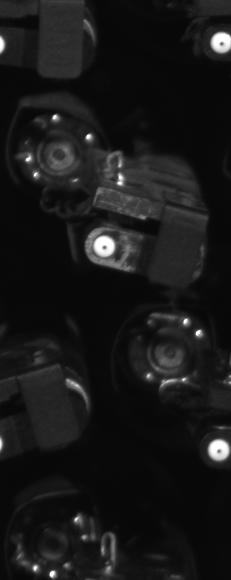fiber: (87, 231, 119, 263), (202, 435, 231, 464), (207, 28, 231, 59)
